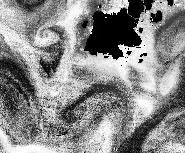CE: (33, 19, 71, 53)
